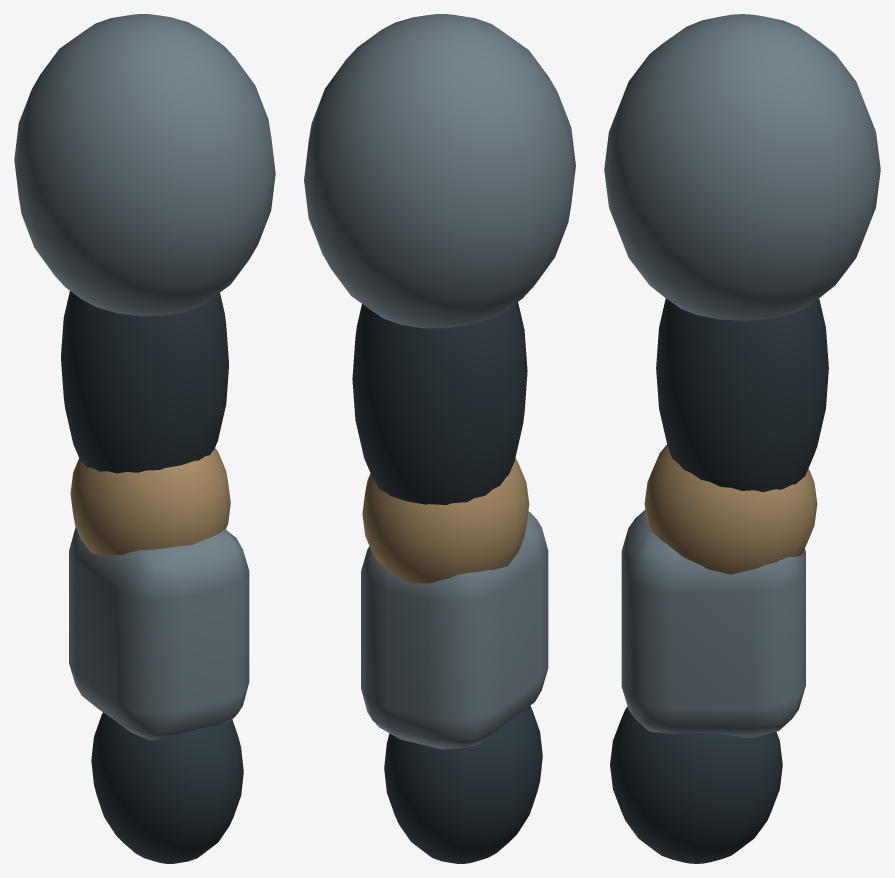
Rendered from courier_arm.fbx.
3 views of the same model, side by side, from view 1: azimuth 30°, elevation 25°; view 2: azimuth 150°, elevation 25°; view 3: azimuth 270°, elevation 25° (orthographic). The views are drawn at different scales.
Parts seen in each view (by area): view 1: courier_arm; view 2: courier_arm; view 3: courier_arm.
Boxes of the visible parts, bbox=[...] form: courier_arm: bbox=[14, 14, 275, 863]; courier_arm: bbox=[304, 14, 575, 863]; courier_arm: bbox=[604, 14, 880, 863].
Bounding box in the file's own units: 23 × 24 × 80.
